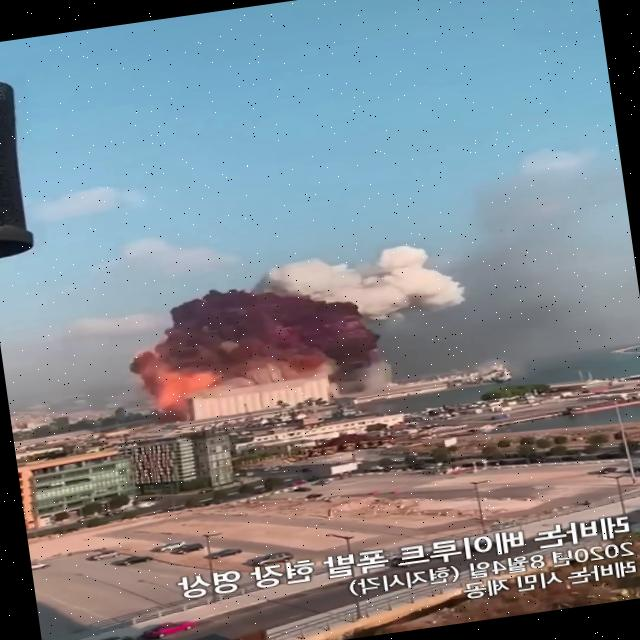explosion: (72, 217, 470, 455)
